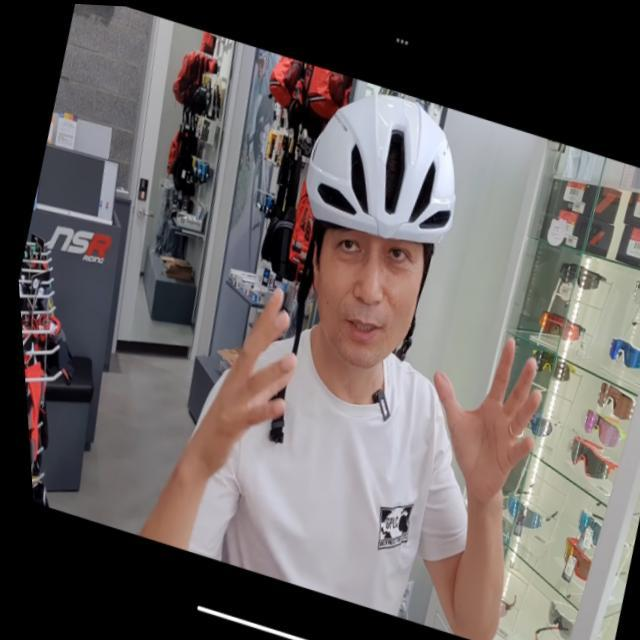Helmet: (276, 76, 464, 369)
